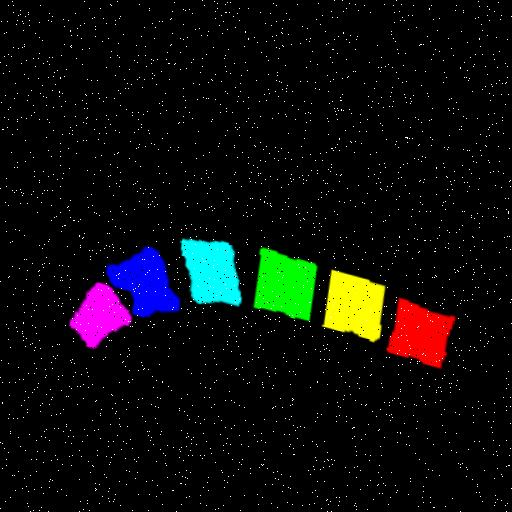L1: (381, 292, 448, 362)
L2: (317, 265, 379, 336)
L3: (248, 244, 310, 317)
L4: (175, 237, 235, 303)
L5: (101, 244, 174, 315)
S1: (63, 280, 125, 347)
